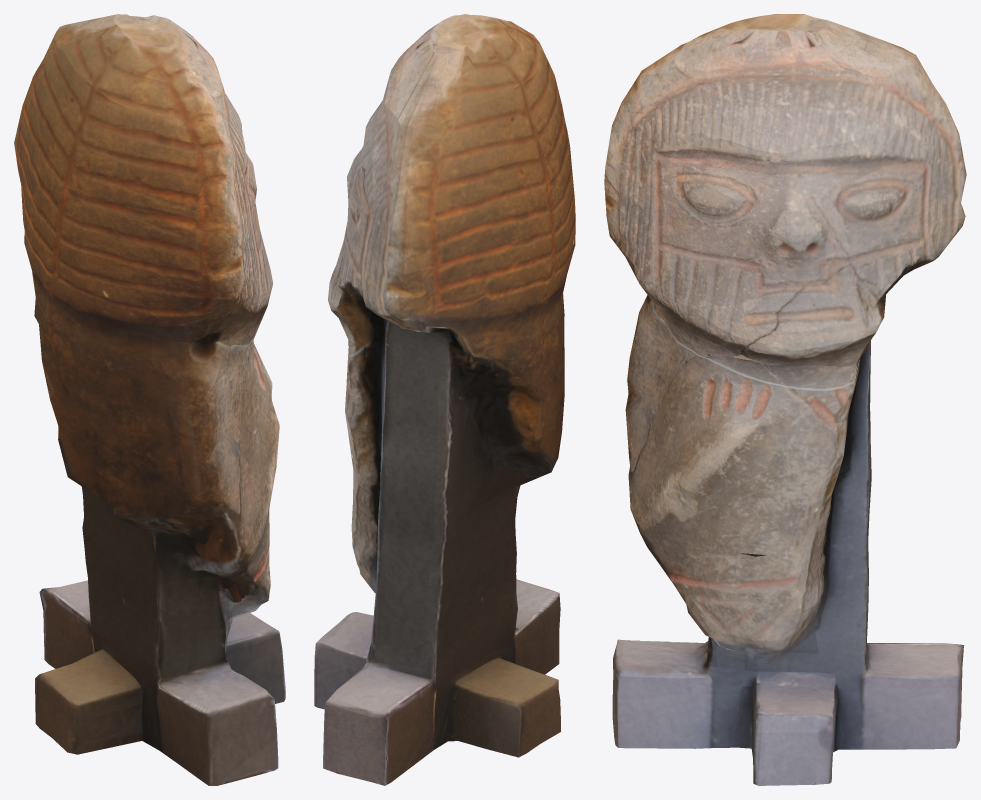
File: chavin-fig-entera_ar.glb
3 views of the same model, side by side, from view 1: azimuth 30°, elevation 25°; view 2: azimuth 150°, elevation 25°; view 3: azimuth 270°, elevation 25° (orthographic). The views are drawn at different scales.
Visible parts, largest first — view 1: Box001; view 2: Box001; view 3: Box001.
Boxes of the visible parts, x1,y1,x2,y2 form: Box001: (14,14,285,785); Box001: (314,14,575,785); Box001: (604,14,966,785).
Bounding box in the file's own units: 42.15 × 126 × 58.81.
Materials: 1 (1 with a texture image).
